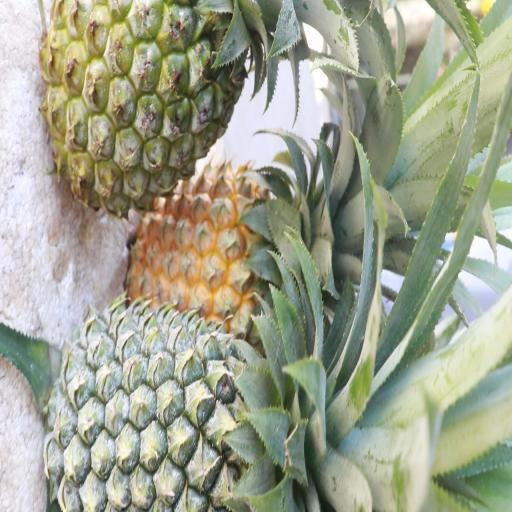------------------------------: (47, 0, 269, 210)
Pineapple - v8 v1: (131, 162, 340, 310)
